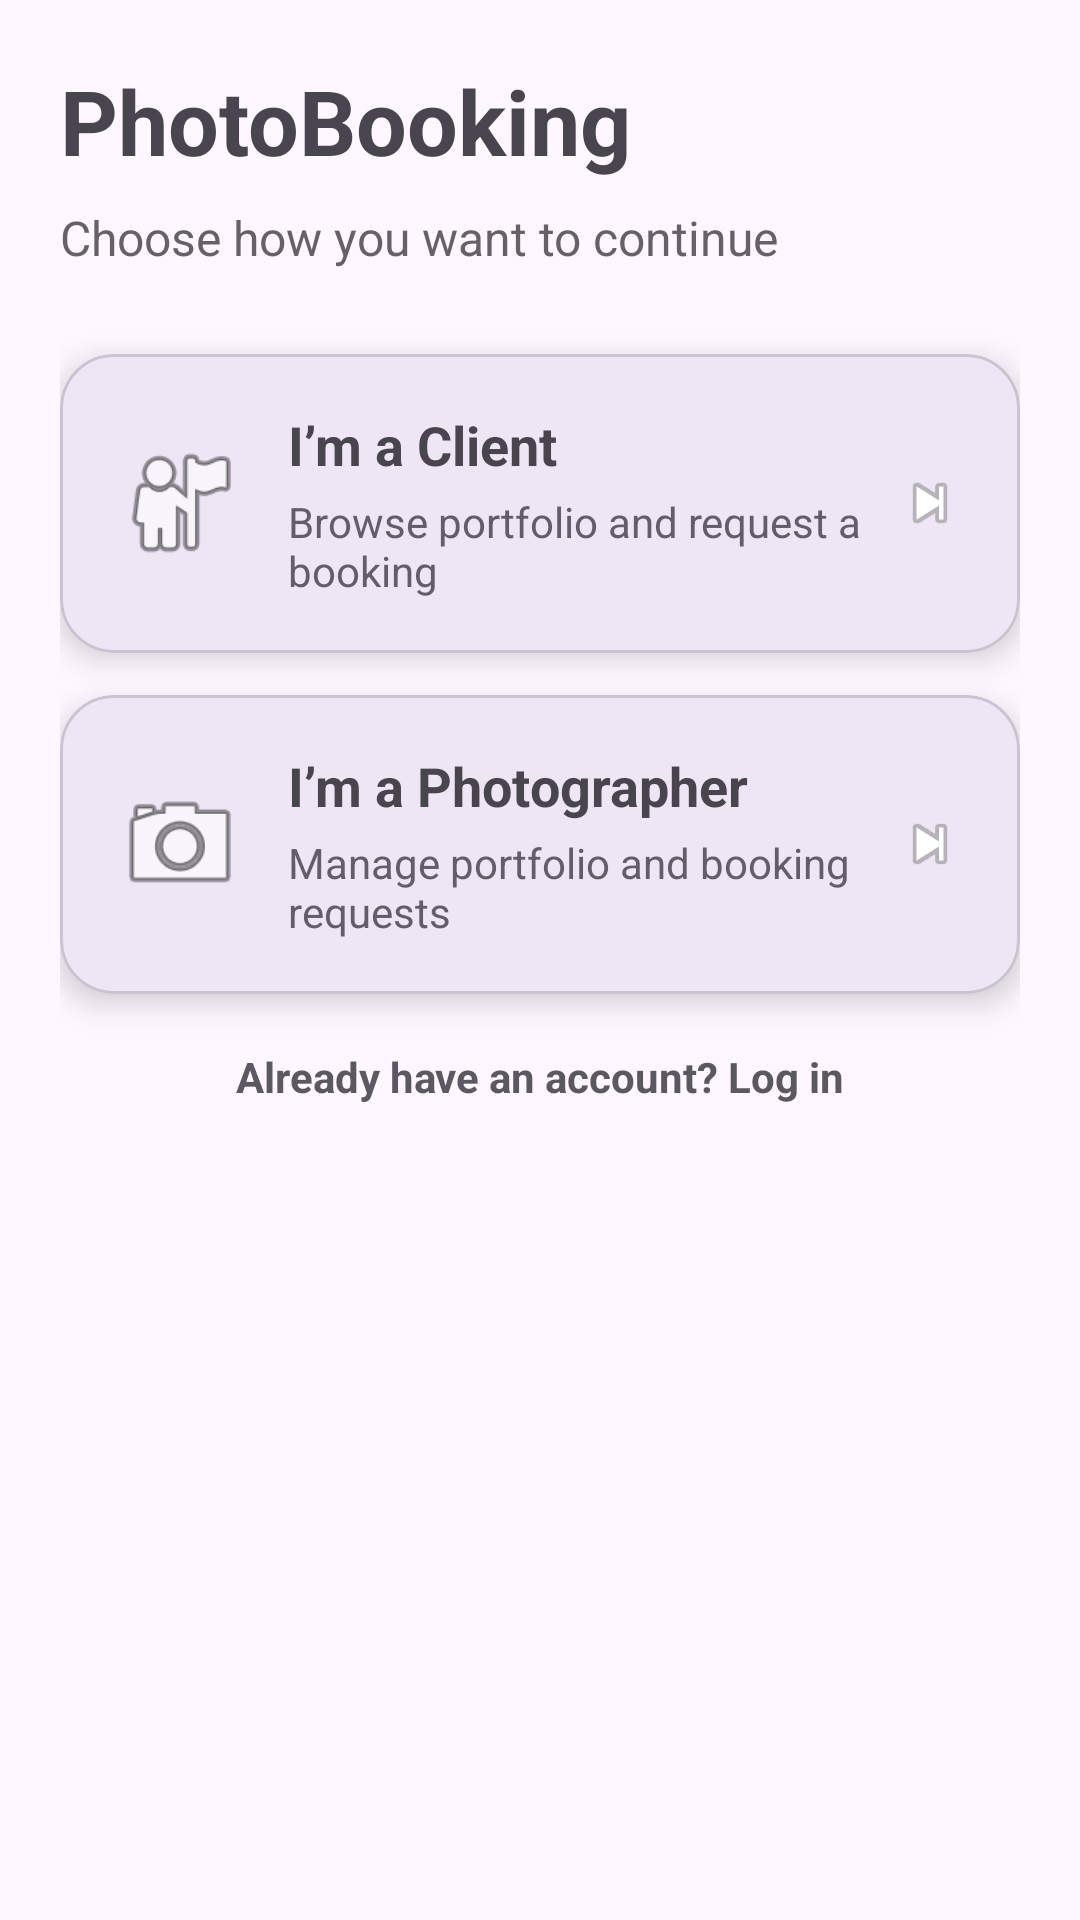

Where to tap for icons on this 1080w x 1920h app screen, as (x=x, y=y):
Go: (x=930, y=503), (x=930, y=844)
